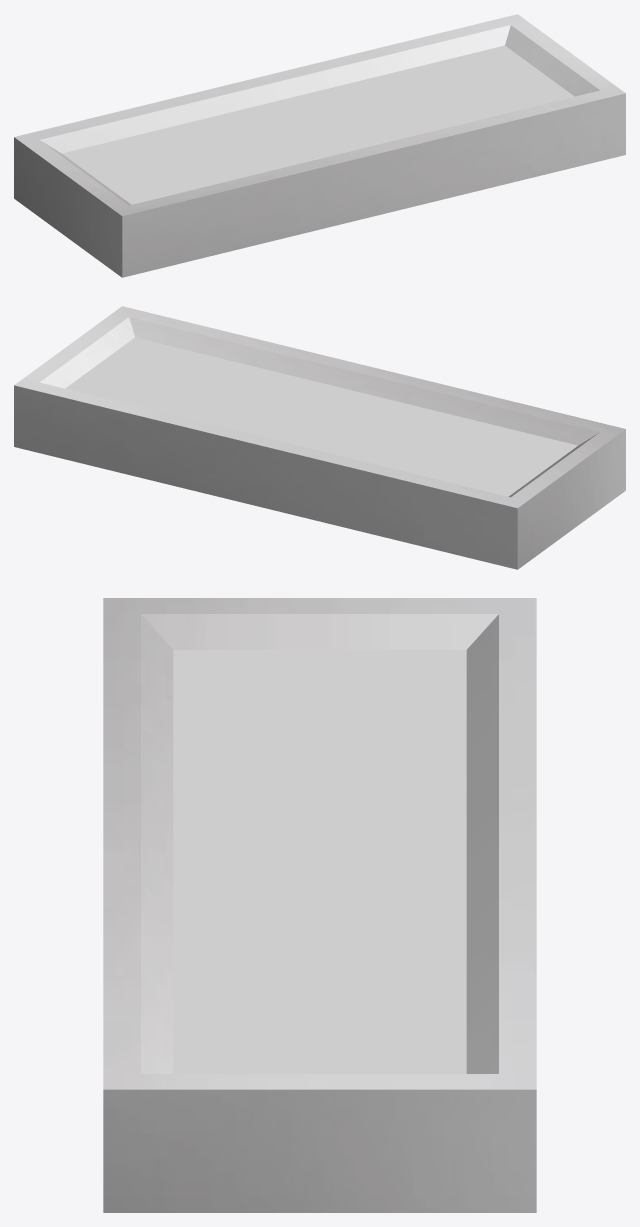
The model's file is LAMPA.fbx.
The picture shows the model from 3 angles, top to bottom: view 1: azimuth 30°, elevation 25°; view 2: azimuth 150°, elevation 25°; view 3: azimuth 270°, elevation 25°; orthographic projection. The views are drawn at different scales.
Parts seen in each view (by area): view 1: Box001, Object001; view 2: Box001, Object001; view 3: Box001, Object001.
Boxes of the visible parts, x1,y1,x2,y2 form: Box001: (14, 14, 625, 277); Object001: (62, 45, 574, 204); Box001: (14, 306, 625, 569); Object001: (65, 337, 577, 496); Box001: (103, 598, 536, 1212); Object001: (173, 650, 466, 1073).
Bounding box in the file's own units: 35.87 × 4.19 × 13.35.
Materials: 1 (1 with a texture image).
